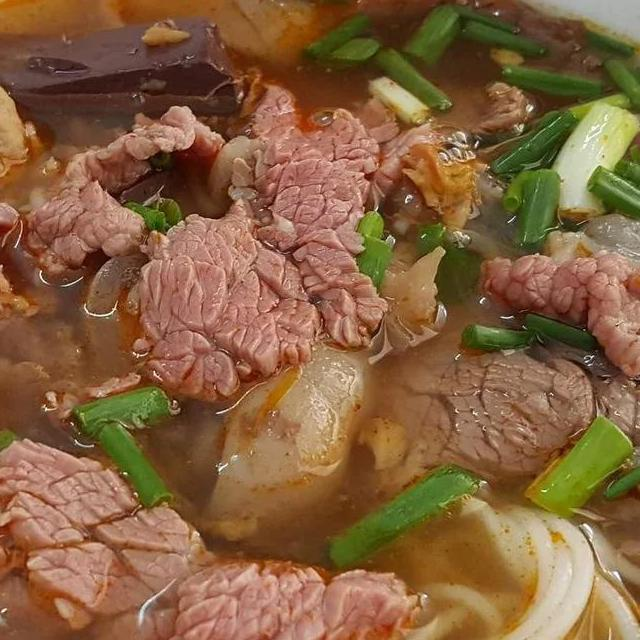bun: (130, 489, 640, 640)
bun bo: (0, 0, 640, 640)
thit bo: (105, 66, 427, 416), (0, 420, 437, 640), (342, 281, 640, 602), (0, 98, 232, 340), (462, 242, 640, 388), (579, 287, 640, 465)
